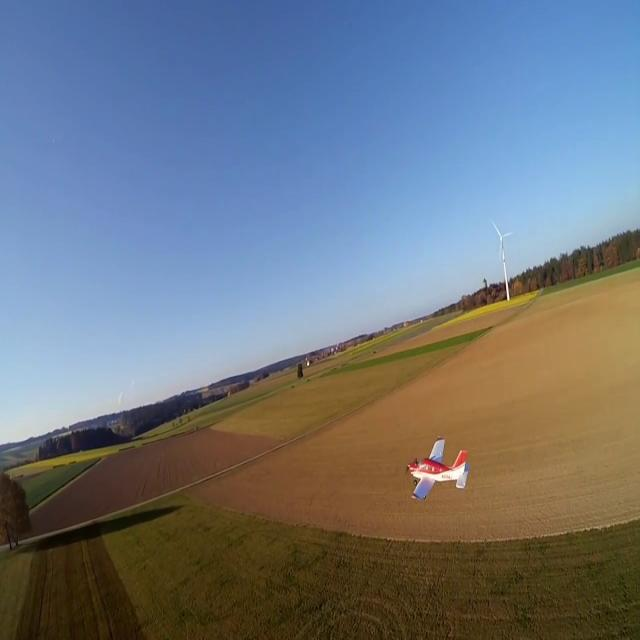iha: (436, 466, 439, 469)
